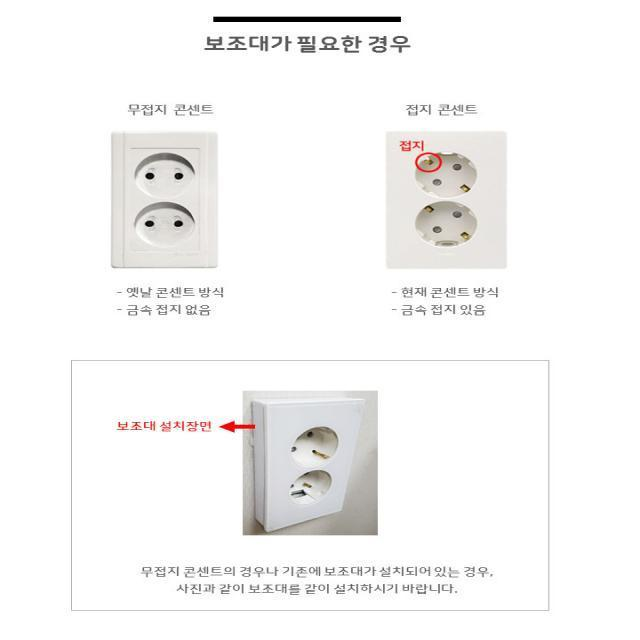typeb: (216, 380, 403, 545), (361, 127, 530, 278), (100, 124, 237, 280)
